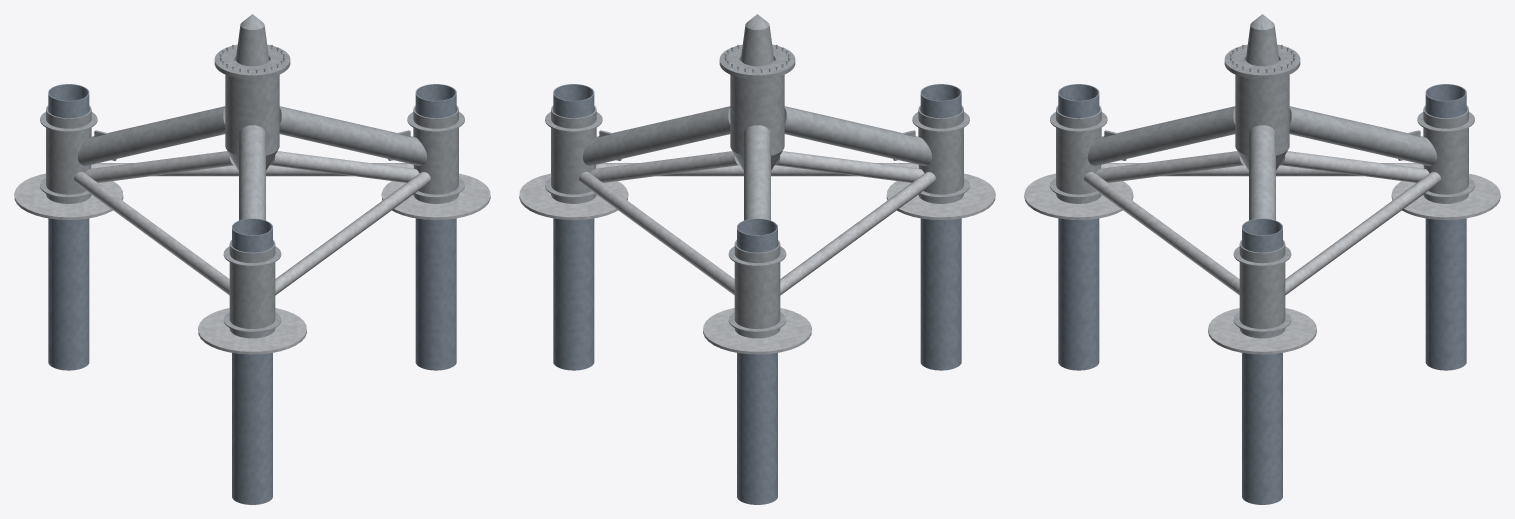
Rendered from wave-energy-anchoring-tripods.glb.
3 renders of one model, left to right at view 1: azimuth 30°, elevation 25°; view 2: azimuth 150°, elevation 25°; view 3: azimuth 270°, elevation 25°, orthographic.
Parts seen in each view (by area): view 1: Piles(context), PileSleeves, Braces, Legs, Mudmats, CentralNode, DeviceFlange&Padeyes; view 2: Piles(context), PileSleeves, Braces, Legs, Mudmats, CentralNode, DeviceFlange&Padeyes; view 3: Piles(context), PileSleeves, Braces, Legs, Mudmats, CentralNode, DeviceFlange&Padeyes.
Boxes of the visible parts, bbox=[...] form: Piles(context): bbox=[48, 84, 456, 504]; PileSleeves: bbox=[40, 105, 464, 338]; Braces: bbox=[74, 151, 430, 295]; Legs: bbox=[77, 106, 427, 220]; Mudmats: bbox=[14, 173, 490, 354]; CentralNode: bbox=[225, 60, 279, 170]; DeviceFlange&Padeyes: bbox=[94, 14, 410, 160]; Piles(context): bbox=[553, 84, 961, 504]; PileSleeves: bbox=[545, 105, 969, 338]; Braces: bbox=[579, 151, 935, 295]; Legs: bbox=[582, 106, 932, 220]; Mudmats: bbox=[519, 173, 995, 354]; CentralNode: bbox=[730, 60, 784, 170]; DeviceFlange&Padeyes: bbox=[599, 14, 915, 160]; Piles(context): bbox=[1058, 84, 1466, 504]; PileSleeves: bbox=[1050, 105, 1474, 338]; Braces: bbox=[1084, 151, 1440, 295]; Legs: bbox=[1087, 106, 1437, 220]; Mudmats: bbox=[1024, 173, 1500, 354]; CentralNode: bbox=[1235, 60, 1289, 170]; DeviceFlange&Padeyes: bbox=[1104, 14, 1420, 160].
Bounding box in the file's own units: 14.1 × 14.3 × 15.72.
Materials: 3 (3 with a texture image).
